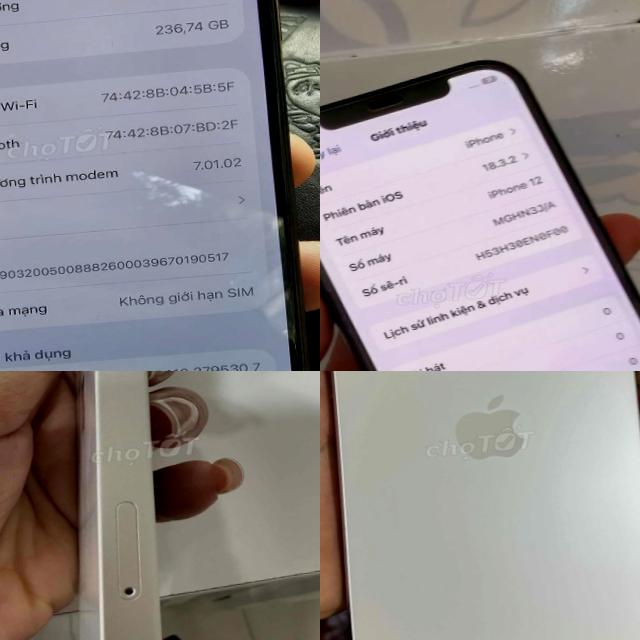gen_11: (0, 0, 319, 371)
gen_12_13: (320, 38, 640, 371)
gen_14: (34, 371, 204, 640)
gen_16: (330, 371, 640, 640)
